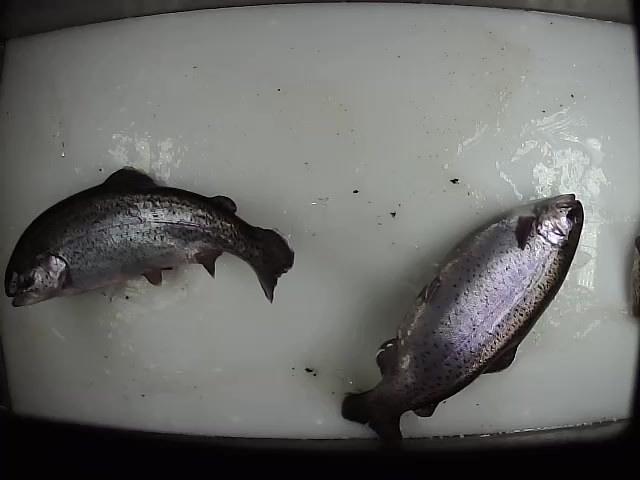fish: (341, 192, 585, 441), (3, 165, 296, 308)
